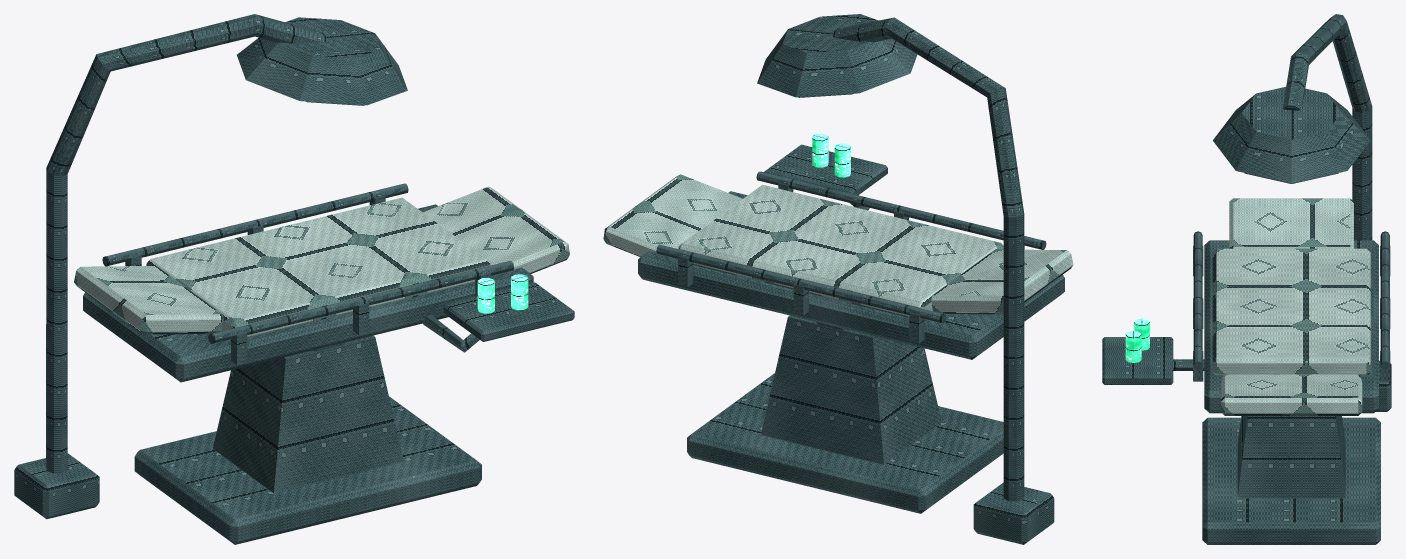
Rendered from alien_operating_table.glb.
3 renders of one model, left to right at view 1: azimuth 30°, elevation 25°; view 2: azimuth 150°, elevation 25°; view 3: azimuth 270°, elevation 25°, orthographic. The views are drawn at different scales.
Parts seen in each view (by area): view 1: alien_operating_table__hosp_metal_trim, alien_operating_table__hosp_floor_hex, alien_operating_table__hosp_bio_glass; view 2: alien_operating_table__hosp_metal_trim, alien_operating_table__hosp_floor_hex, alien_operating_table__hosp_bio_glass; view 3: alien_operating_table__hosp_metal_trim, alien_operating_table__hosp_floor_hex, alien_operating_table__hosp_bio_glass.
Part boxes in pixels (left/top/right/bottom): alien_operating_table__hosp_metal_trim: left=14, top=14, right=574, bottom=544; alien_operating_table__hosp_floor_hex: left=74, top=186, right=569, bottom=337; alien_operating_table__hosp_bio_glass: left=477, top=274, right=528, bottom=313; alien_operating_table__hosp_metal_trim: left=638, top=14, right=1064, bottom=544; alien_operating_table__hosp_floor_hex: left=603, top=174, right=1073, bottom=317; alien_operating_table__hosp_bio_glass: left=812, top=133, right=850, bottom=177; alien_operating_table__hosp_metal_trim: left=1102, top=14, right=1391, bottom=544; alien_operating_table__hosp_floor_hex: left=1212, top=198, right=1370, bottom=415; alien_operating_table__hosp_bio_glass: left=1125, top=318, right=1149, bottom=362.
Size of the model in its own units: 2.28 by 2.22 by 1.39.
Materials: 4 (4 with a texture image).
